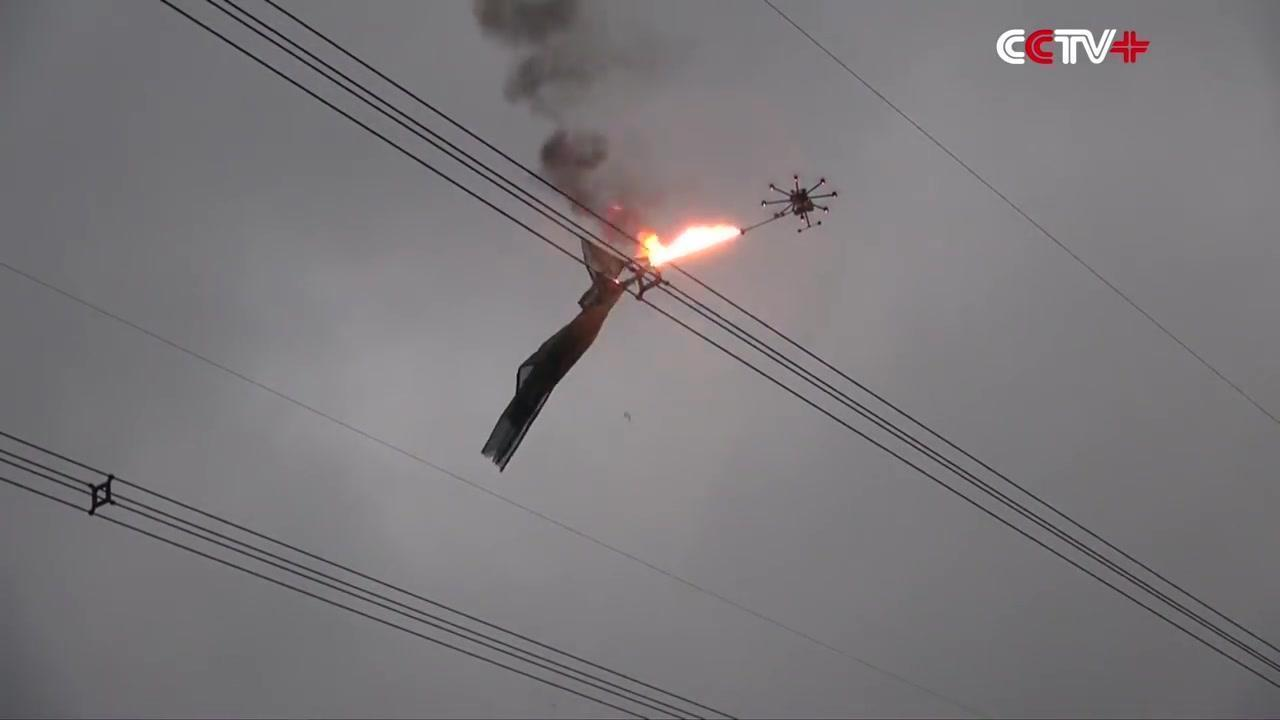UAV: (741, 175, 839, 236)
